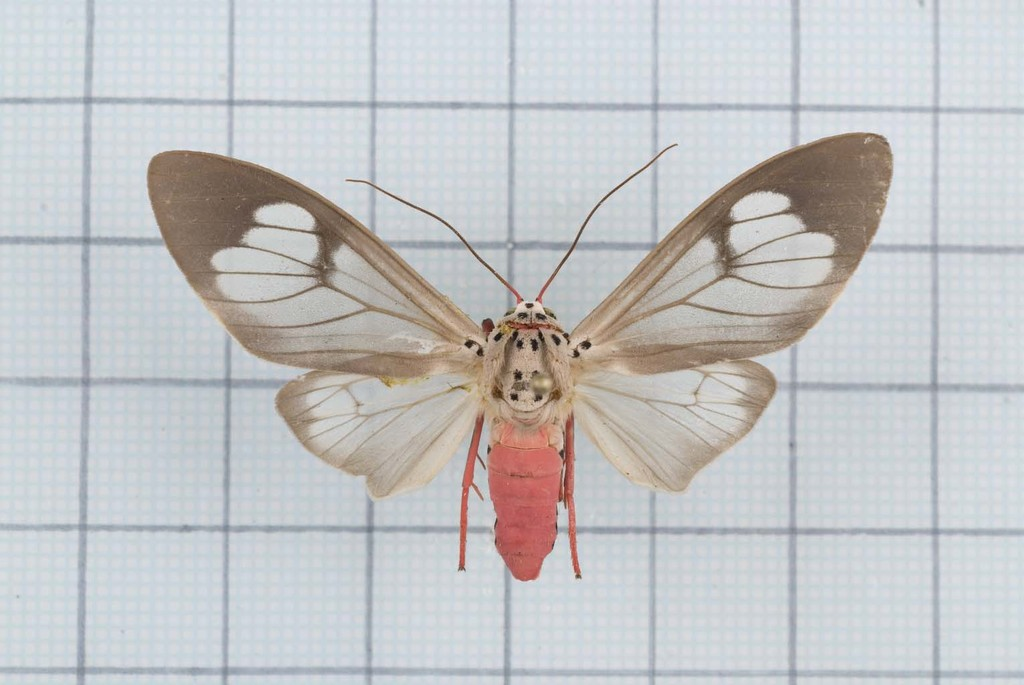Butterfly: (138, 118, 906, 589)
